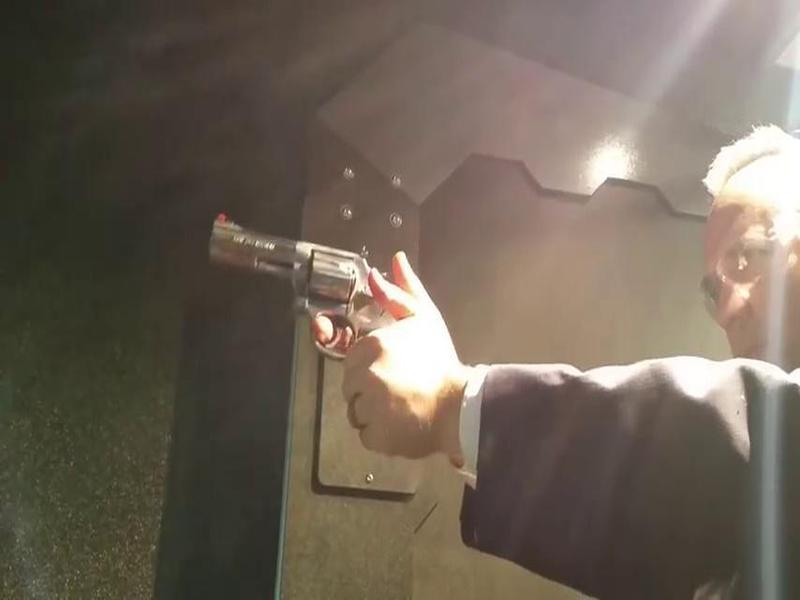Revolver: (188, 196, 423, 392)
